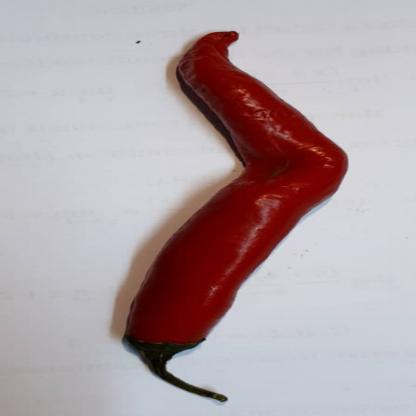chili: (108, 32, 348, 404)
